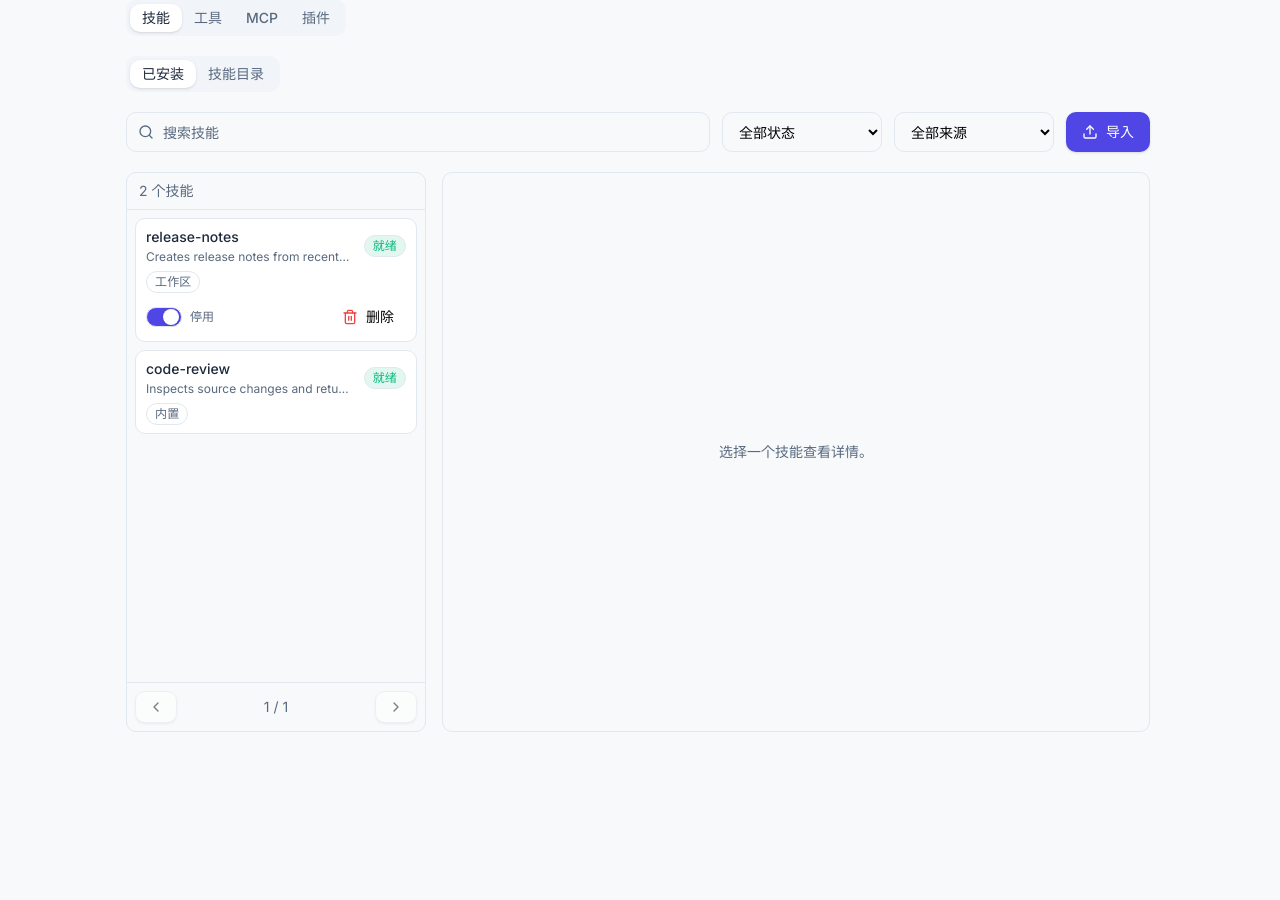
SkillsPage › shows skill detail after selecting a skill
The width and height of the screenshot is (1280, 900).
Click the button "Creates release notes from recent changes" at [276, 260], box [146,227,406,293]
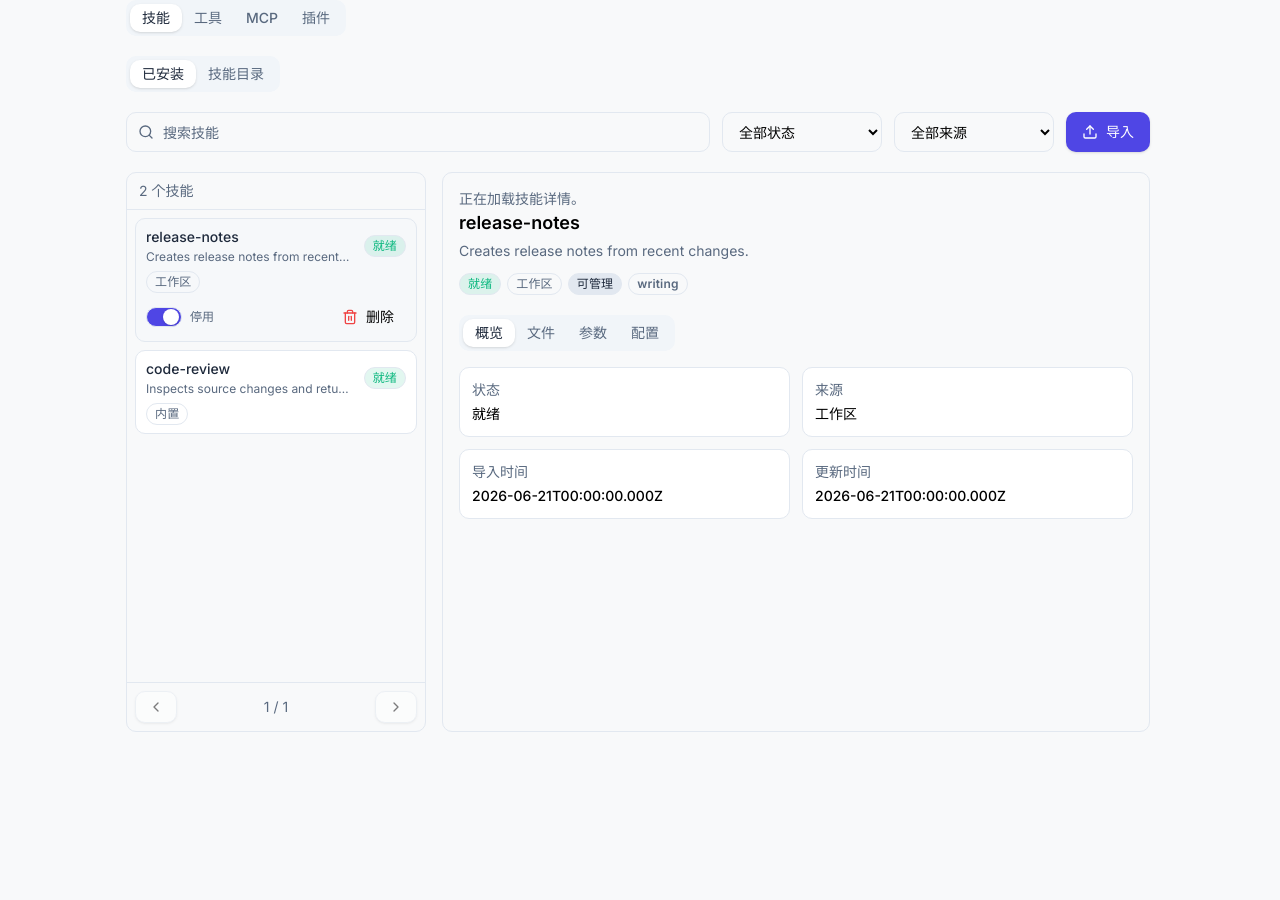
Expected: the heading "release-notes" is shown, [459,212,580,233]
Expected: the text "Creates release notes from recent changes." below "正在加载技能详情。" is shown, [459,242,749,259]
Expected: the tab "文件" is shown
Press the mouse on the tab "文件" at [541, 333], box [515,319,567,347]
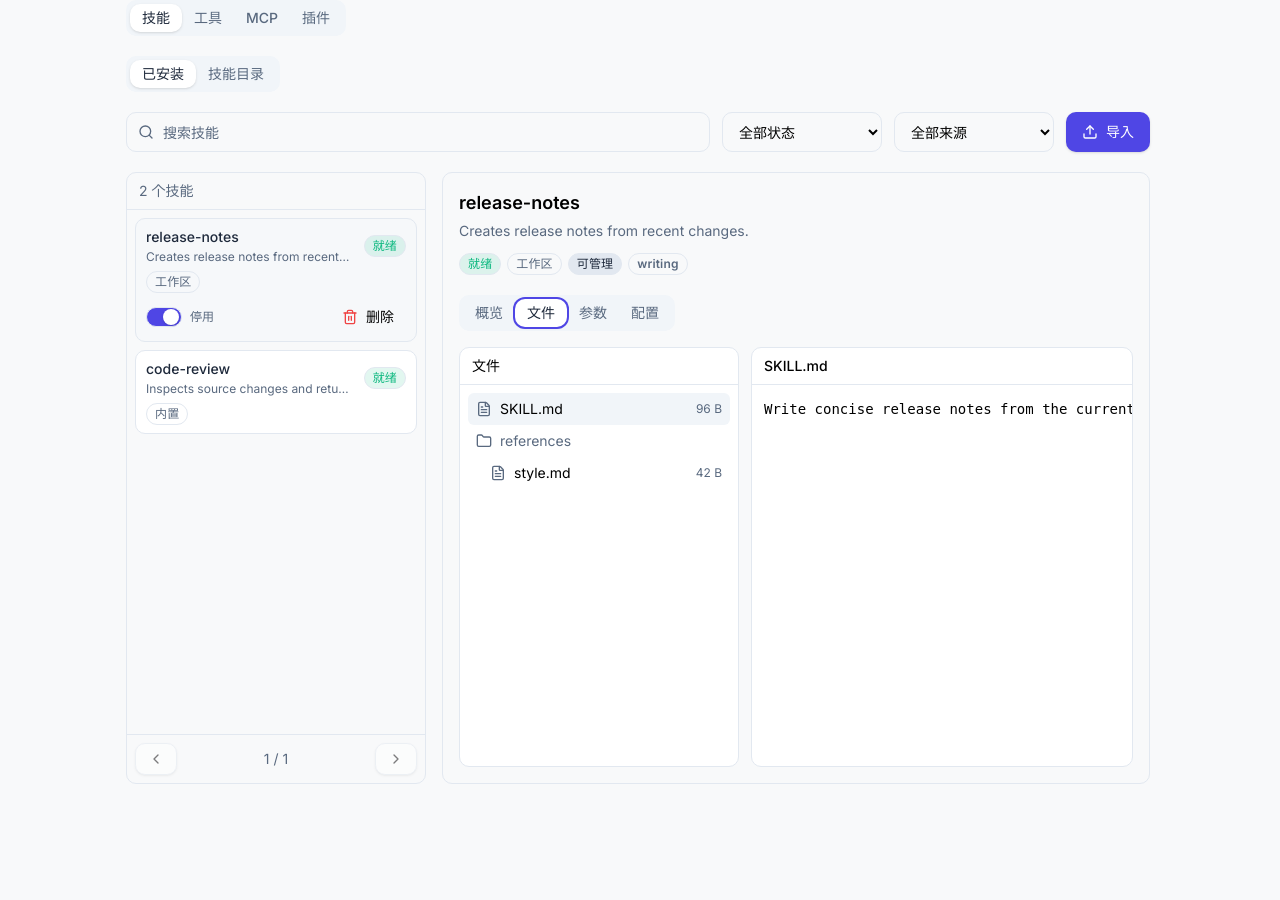
Expected: the element "文件" is shown, [459,347,1133,767]
Expected: the button "SKILL.md 96 B" is shown, [468,393,730,425]
Expected: the text "Write concise release notes from the current workspace diff." is shown, [764,397,1132,421]
Click the button "style.md 42 B" at [542, 472], box [468,457,730,489]
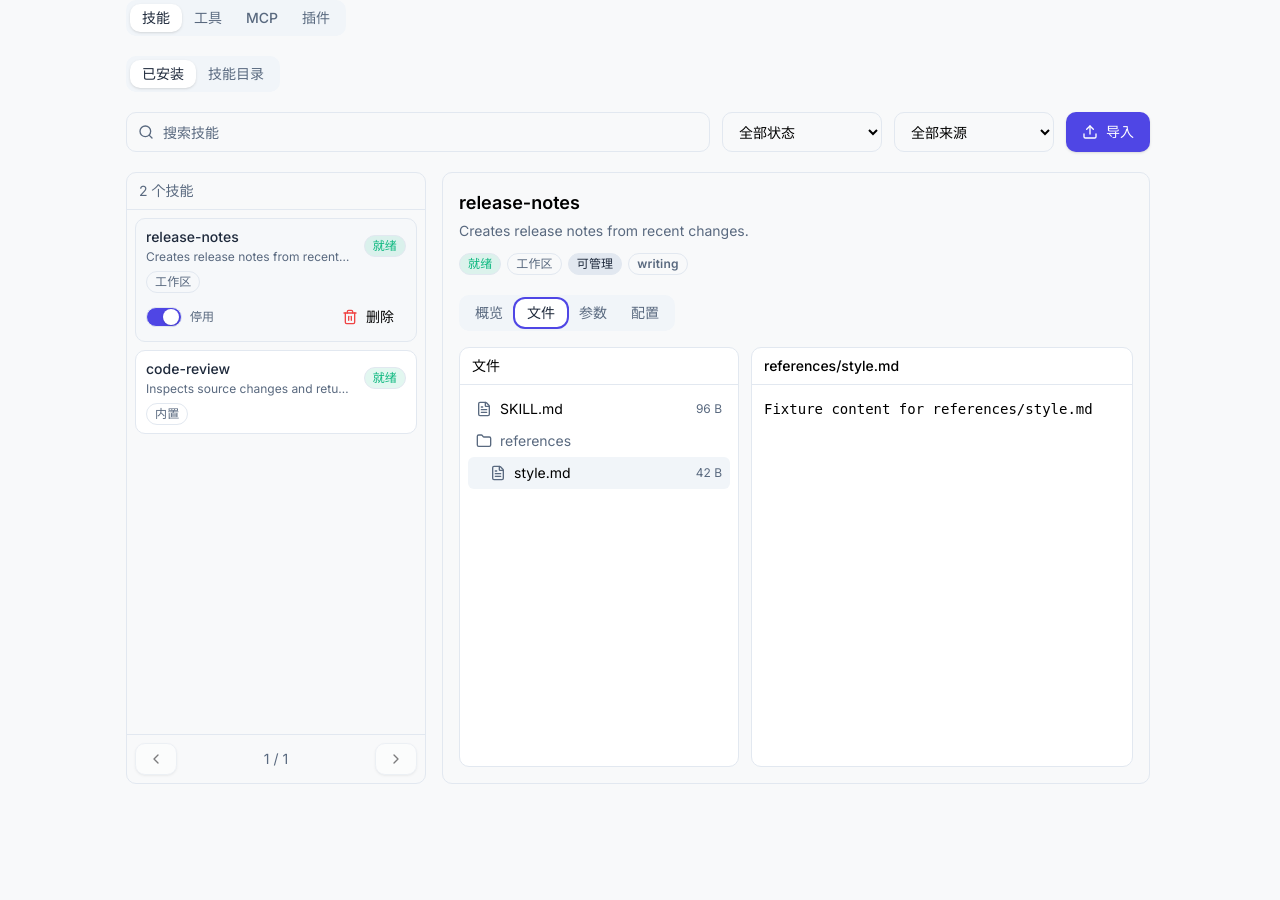
Expected: the text "Fixture content for references/style.md" is shown, [764,397,1120,421]
Press the mouse on the tab "参数" at [593, 313], box [567,299,619,327]
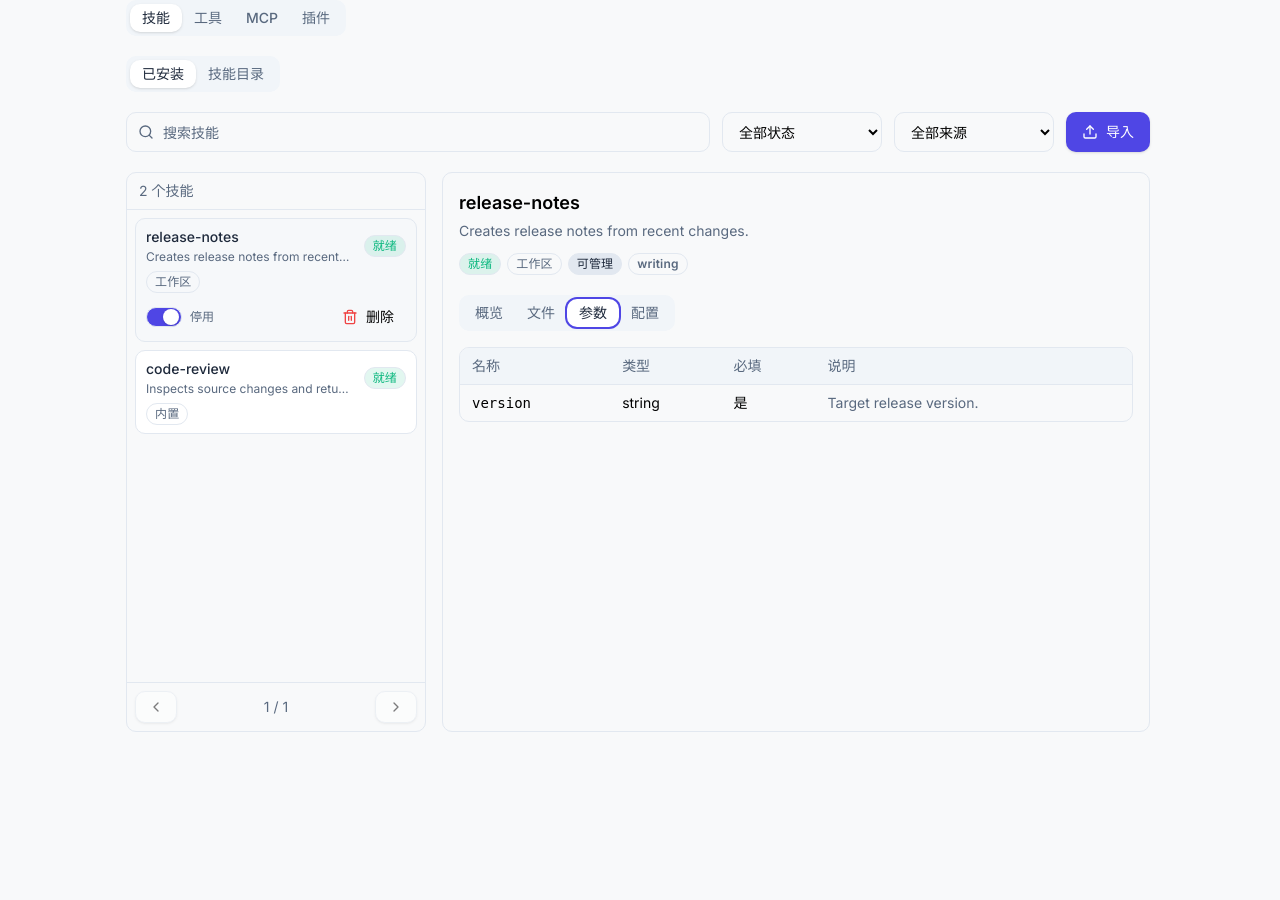
Expected: the text "version" is shown, [460,384,610,421]
Press the mouse on the tab "配置" at [645, 313], box [619,299,671,327]
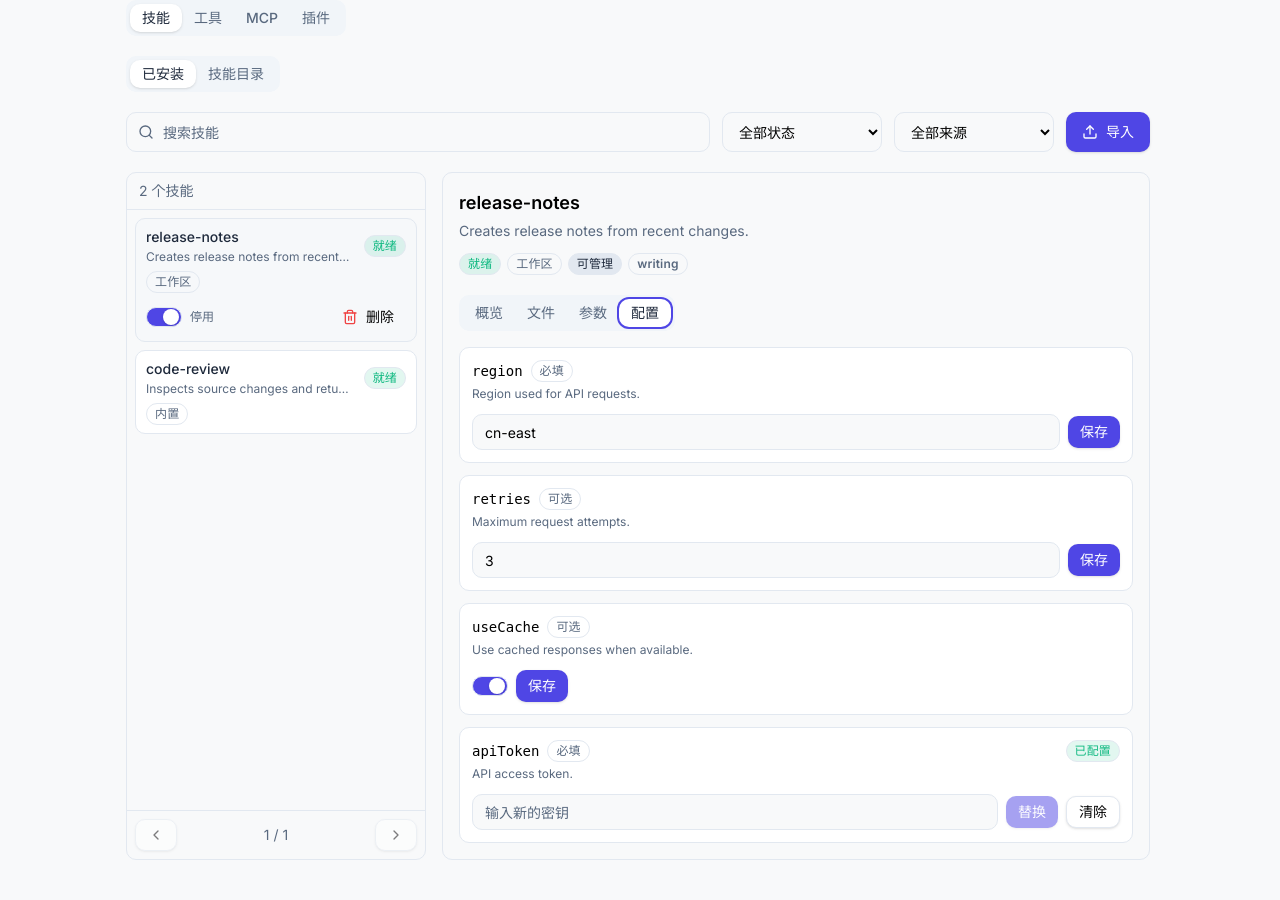
Expected: the text "region" is shown, [472,361,523,381]
